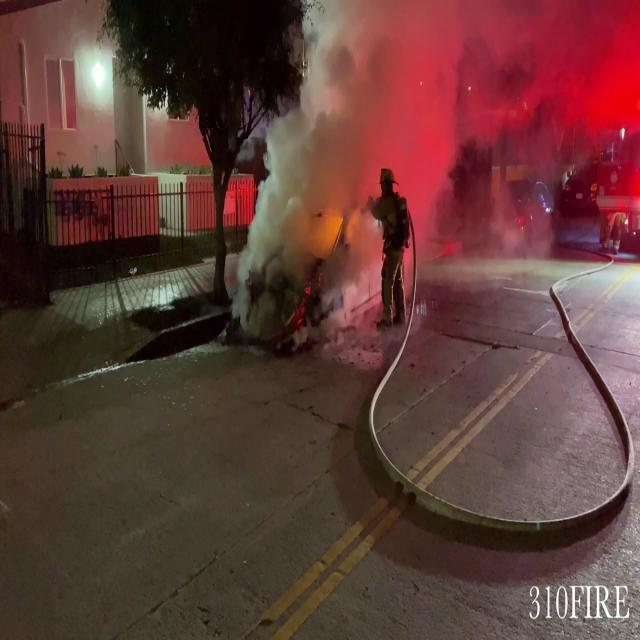Smoke: (248, 0, 640, 183), (255, 0, 464, 325)
